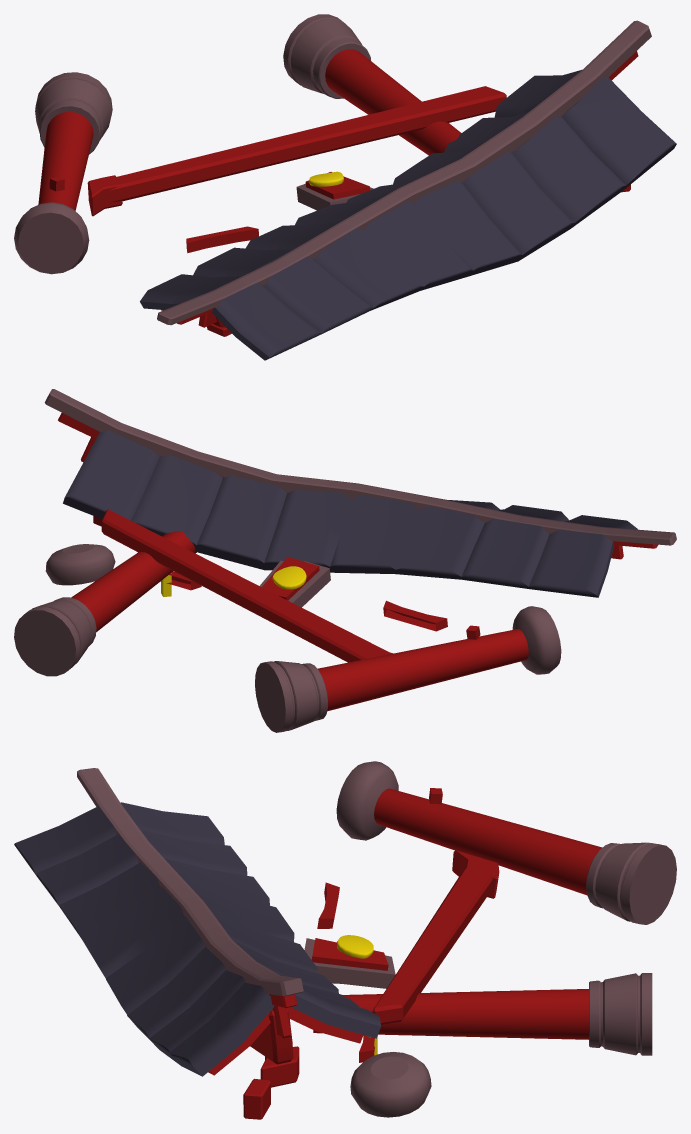
File: Torii_Gate_02.fbx
3 views of the same model, one above another, from view 1: azimuth 30°, elevation 25°; view 2: azimuth 150°, elevation 25°; view 3: azimuth 270°, elevation 25° (orthographic). The views are drawn at different scales.
Parts seen in each view (by area): view 1: Torii_Gate_02; view 2: Torii_Gate_02; view 3: Torii_Gate_02.
Part boxes in pixels (x1,y1,x2,y2): Torii_Gate_02: [14, 14, 676, 360]; Torii_Gate_02: [14, 389, 676, 732]; Torii_Gate_02: [14, 761, 676, 1119].
Size of the model in its own units: 1468 by 363 by 1313.
